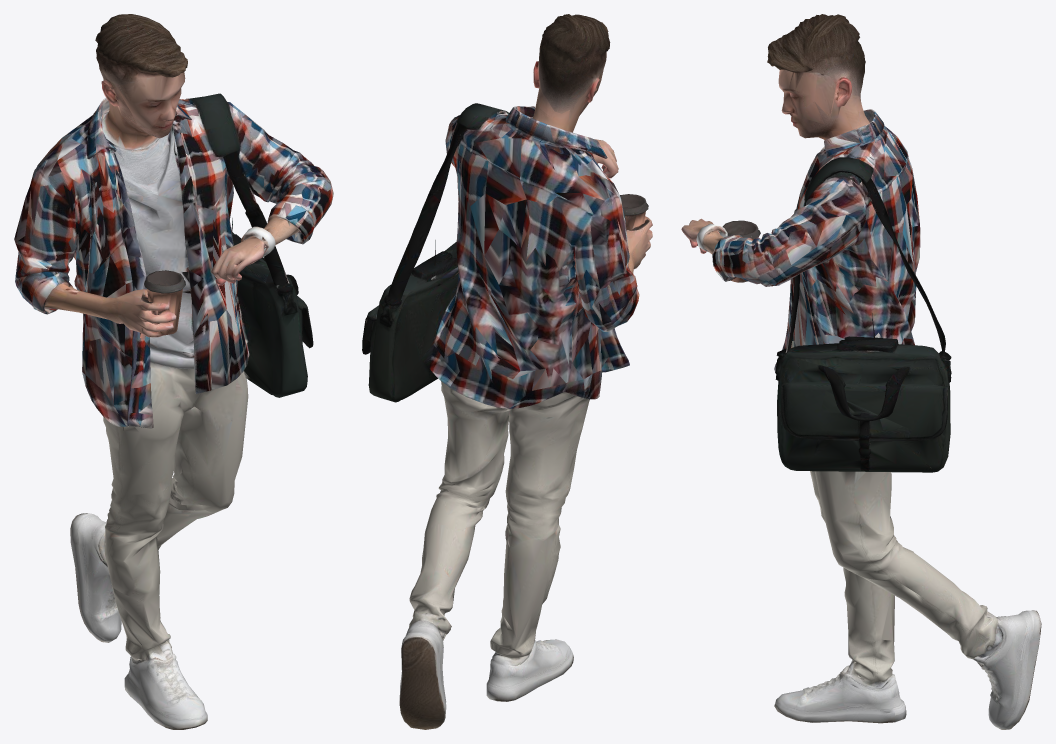
The model's file is extra-man-3-near.glb.
The picture shows the model from 3 angles, left to right: view 1: azimuth 30°, elevation 25°; view 2: azimuth 150°, elevation 25°; view 3: azimuth 270°, elevation 25°; orthographic projection. The views are drawn at different scales.
Parts seen in each view (by area): view 1: Mesh_0; view 2: Mesh_0; view 3: Mesh_0.
Boxes of the visible parts, x1,y1,x2,y2 form: Mesh_0: (14,14,333,729); Mesh_0: (362,14,652,729); Mesh_0: (681,14,1041,729).
Bounding box in the file's own units: 0.7468 × 1.9 × 0.9131.
Materials: 1 (1 with a texture image).
